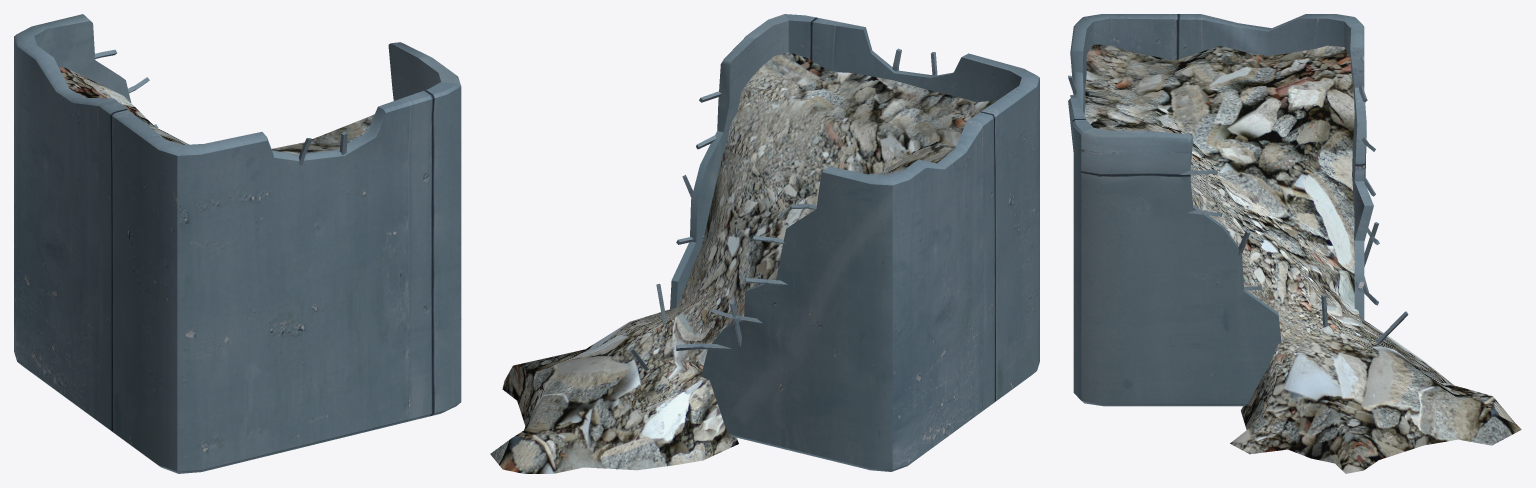
The model's file is GarbageBoxGravel.FBX.
3 renders of one model, left to right at view 1: azimuth 30°, elevation 25°; view 2: azimuth 150°, elevation 25°; view 3: azimuth 270°, elevation 25°, orthographic. The views are drawn at different scales.
Visible parts, largest first — view 1: GarbageBox, GarbageBoxGravel; view 2: GarbageBox, GarbageBoxGravel; view 3: GarbageBoxGravel, GarbageBox.
Boxes of the visible parts, <box> form: GarbageBox: <box>14,14,461,473</box>; GarbageBoxGravel: <box>59,67,374,154</box>; GarbageBox: <box>629,14,1039,471</box>; GarbageBoxGravel: <box>490,52,996,473</box>; GarbageBoxGravel: <box>1084,44,1521,473</box>; GarbageBox: <box>1068,14,1408,406</box>.
Size of the model in its own units: 84.35 by 59.84 by 87.8.
